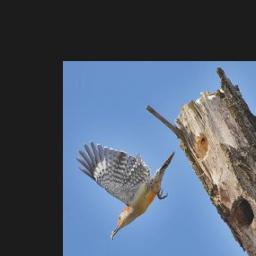Woodpecker: (75, 139, 175, 241)
